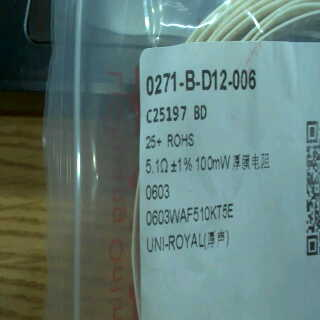5.1R: (144, 151, 172, 175)
